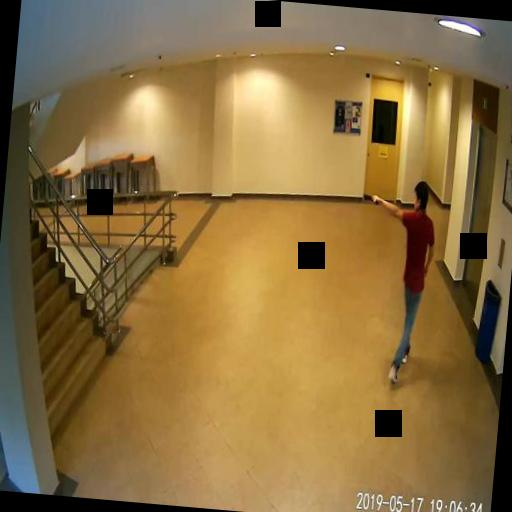Handgun: (362, 190, 379, 204)
